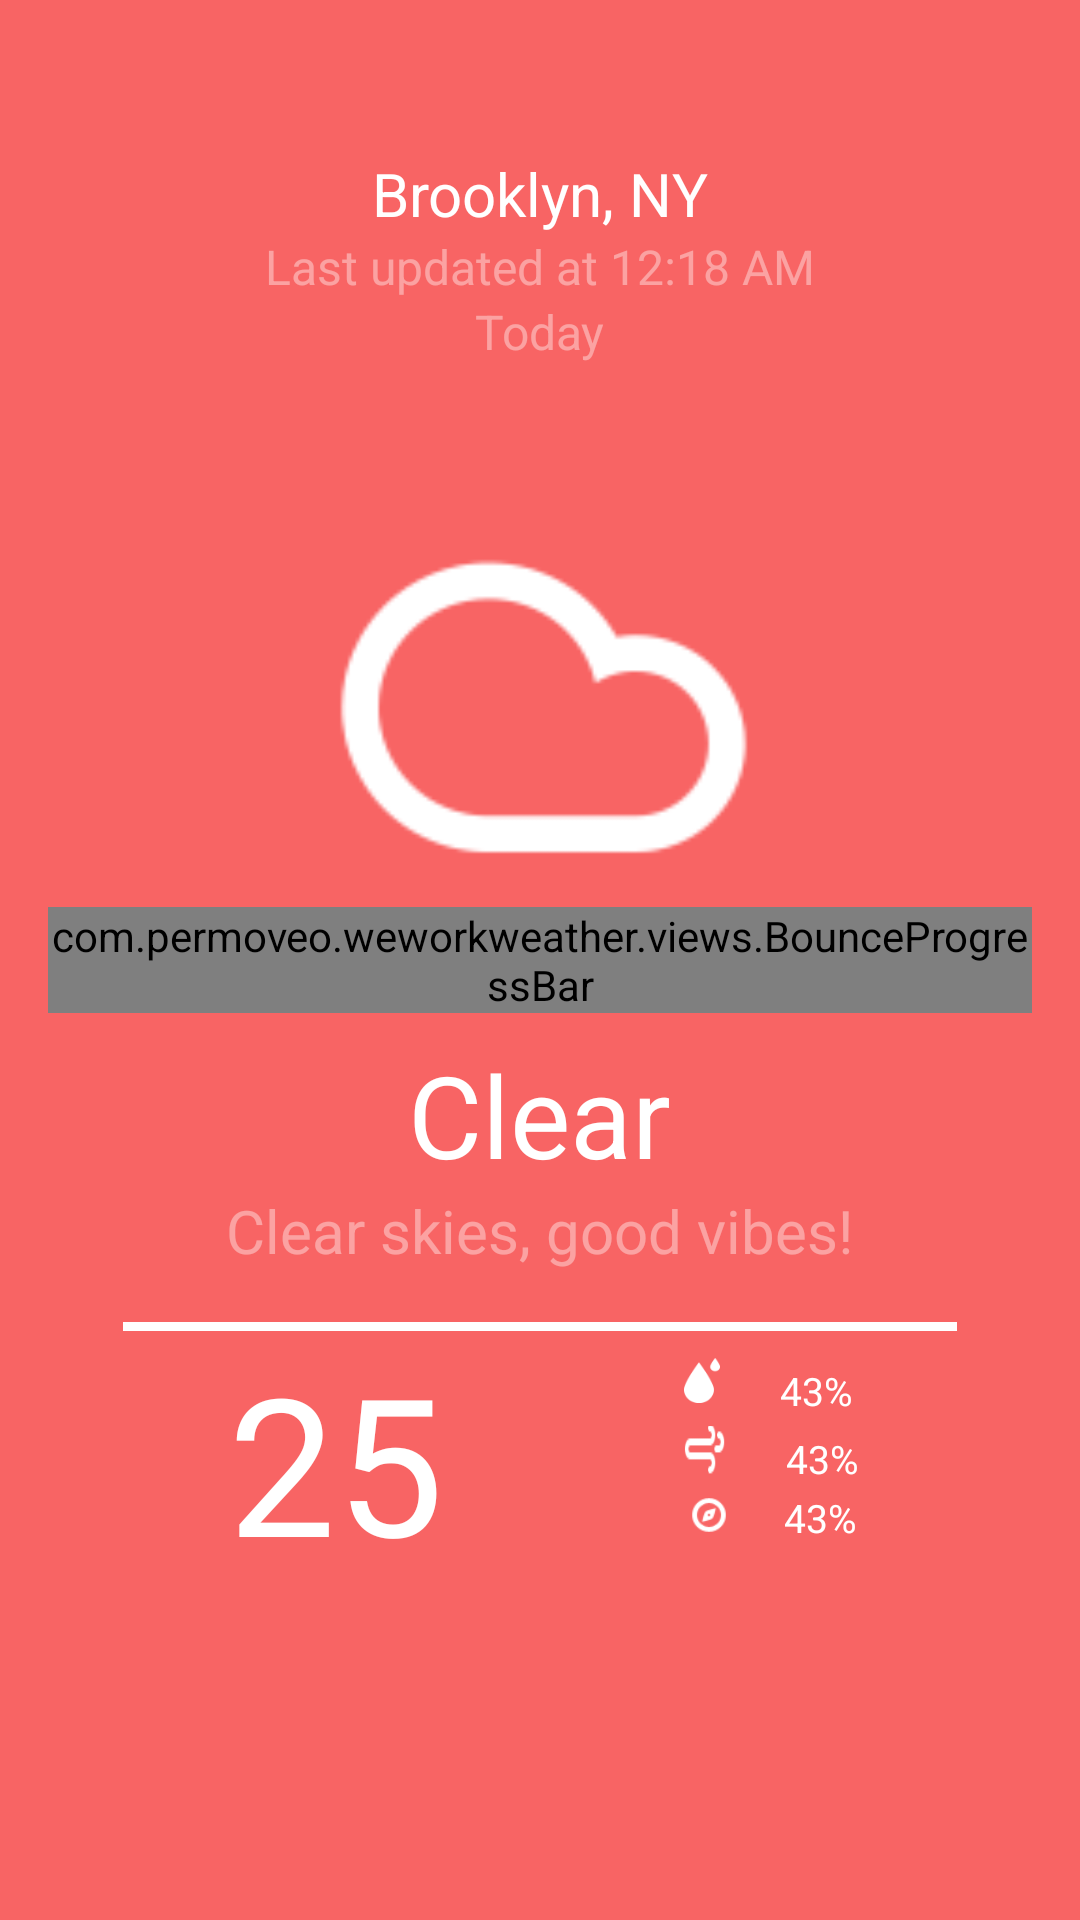

Named icons in this screenshot (1080w x 1920h) and their bounding boxes, (x1, y1, x2, y2):
rain percentage: (684, 1358, 720, 1403)
windspeed: (685, 1426, 725, 1474)
